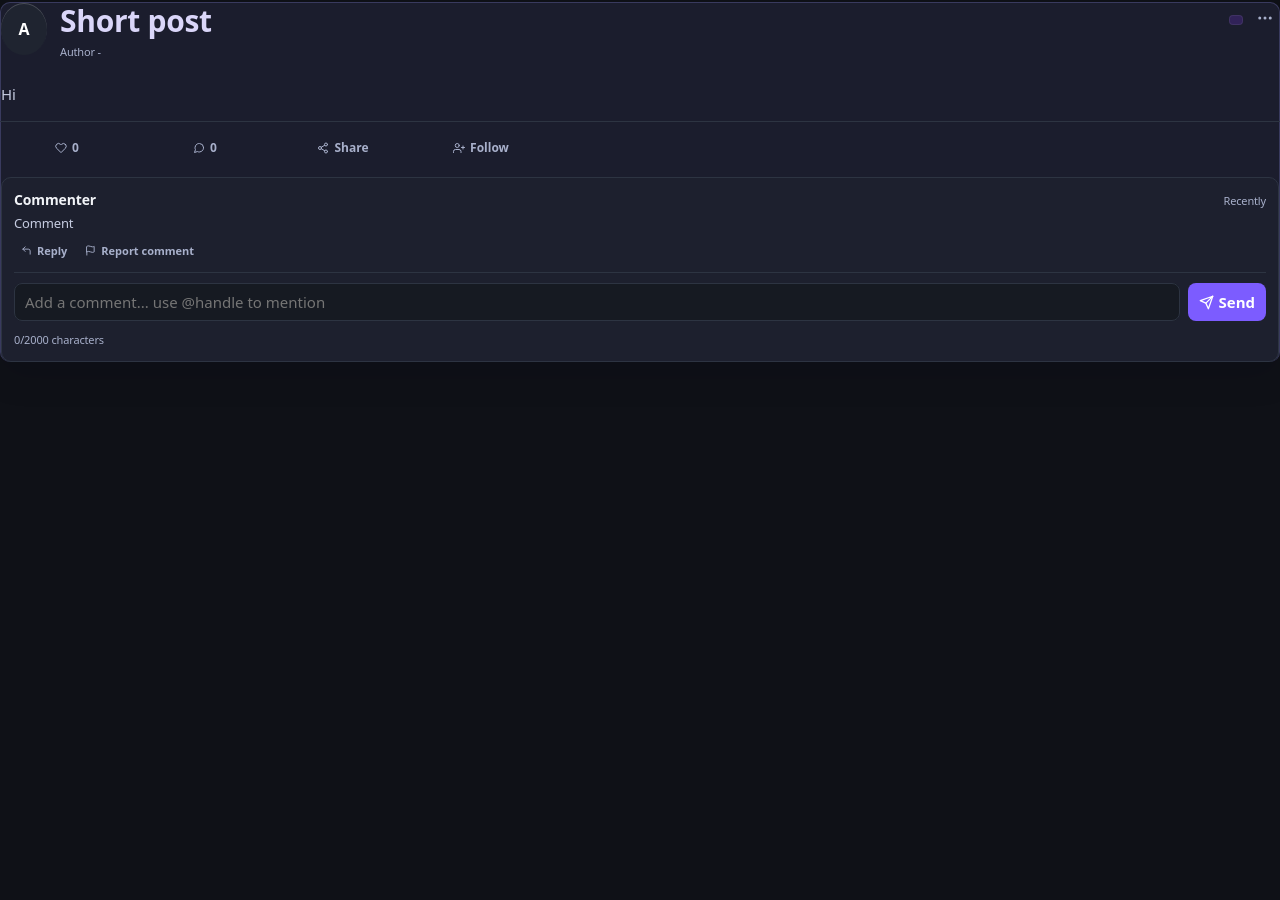
Test: shows a visible success toast after a COMMENT report
Click the button "Report comment" at (140, 250), box [78,238,201,263]
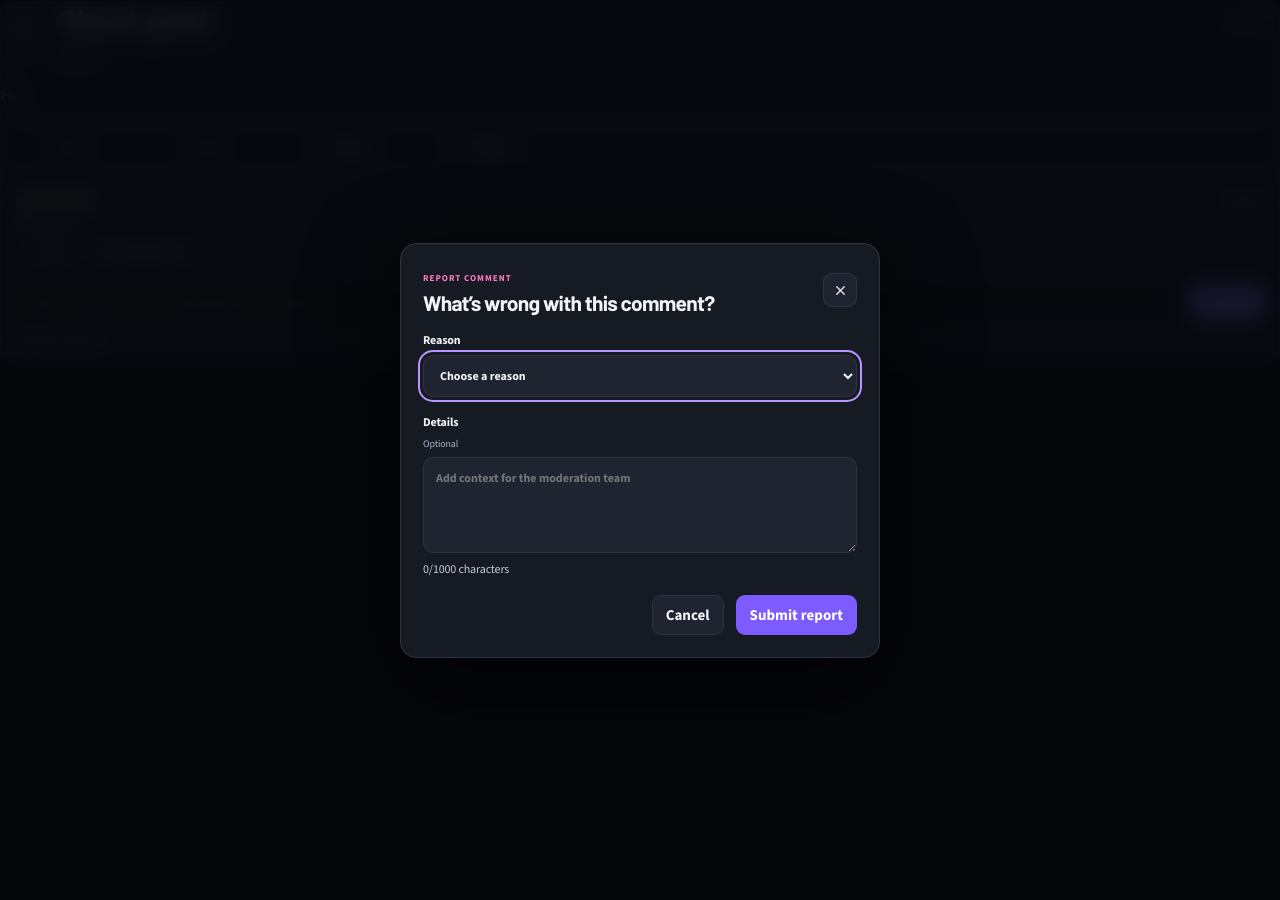
Select "Harassment" in the dropdown labelled "Reason" at (640, 376), box [423,354,857,396]
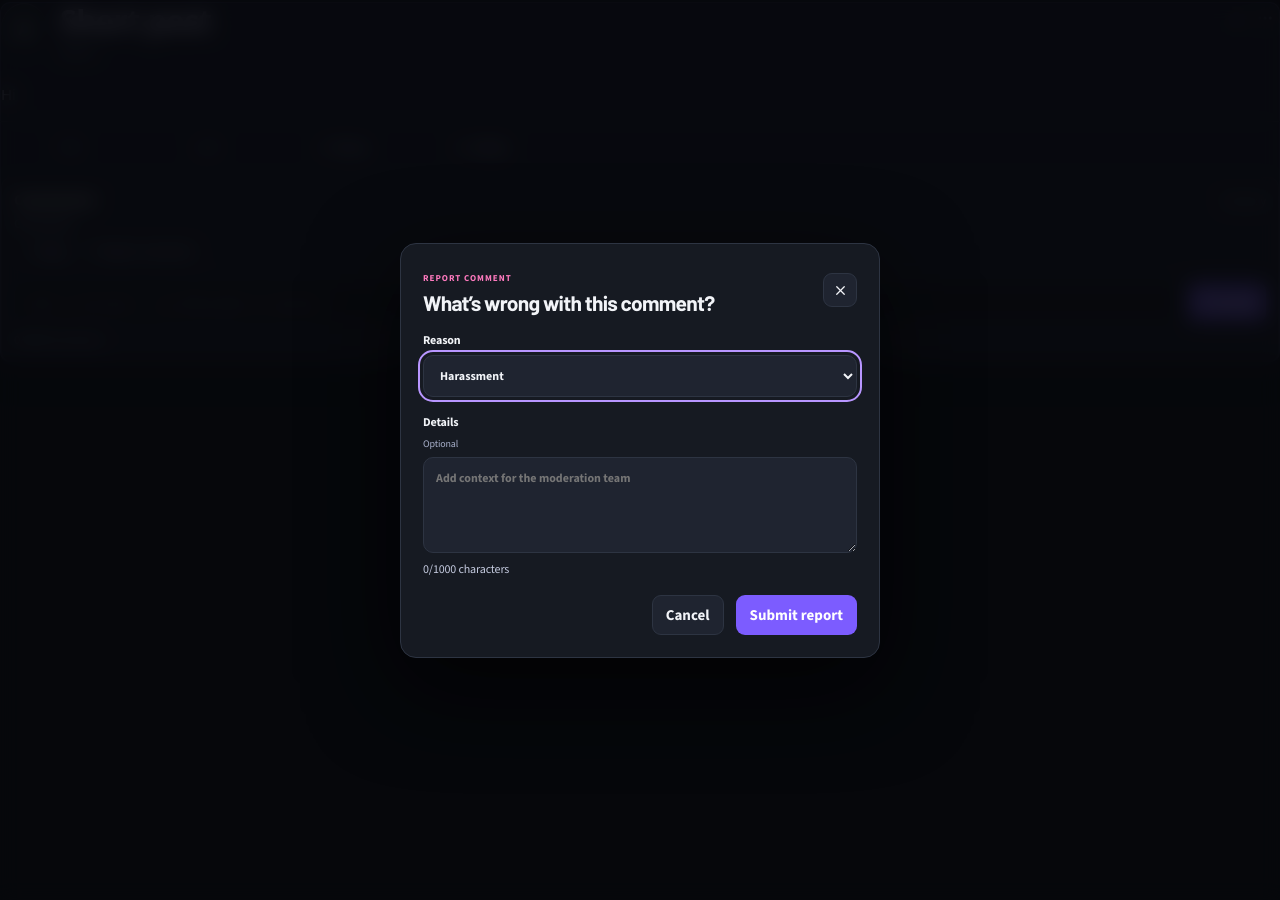
Click the button "Submit report" at (796, 614), box [736,594,857,634]
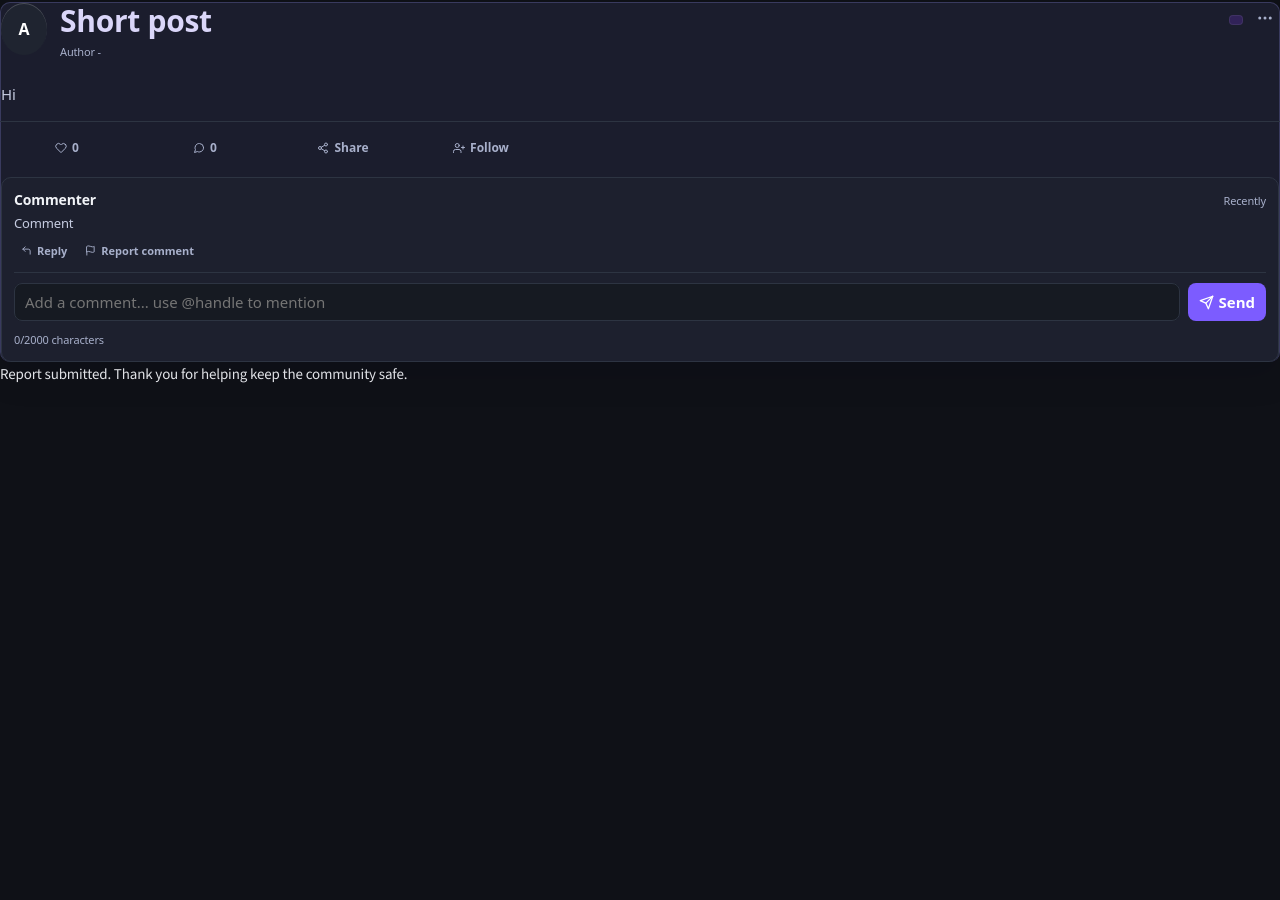
Expected: the text "Report submitted. Thank you for helping keep the community safe." is shown, [0,364,407,384]
